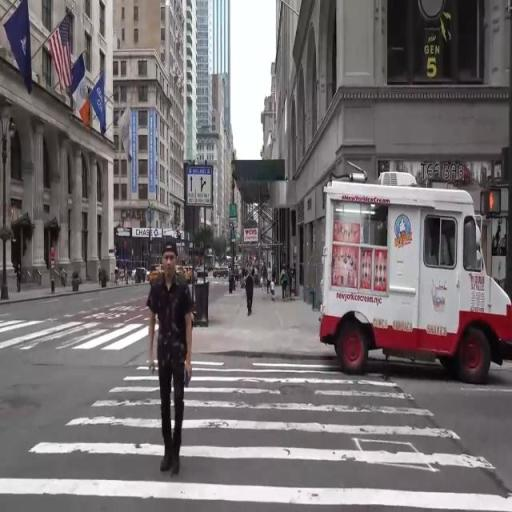person: (148, 241, 196, 482), (243, 263, 258, 320), (261, 259, 269, 292), (281, 265, 289, 297), (16, 265, 23, 293), (269, 259, 273, 297), (271, 282, 278, 303), (236, 264, 241, 291), (230, 267, 234, 296), (62, 266, 67, 288), (99, 266, 104, 287), (116, 265, 120, 280)
